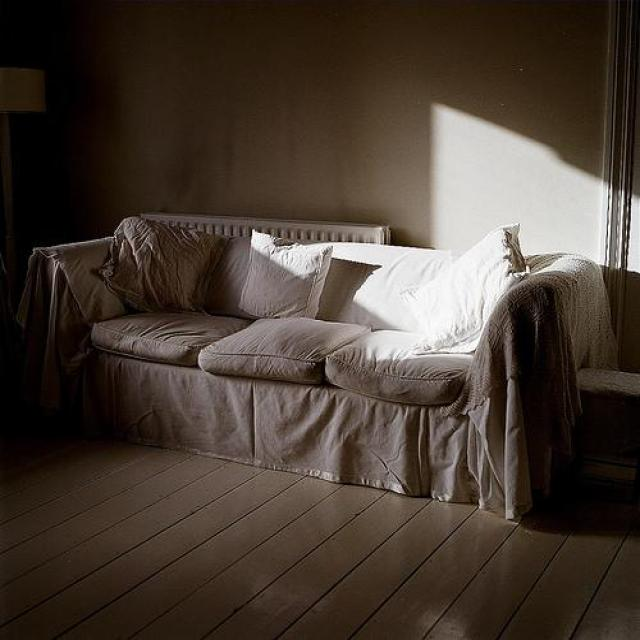sofa: (22, 216, 616, 524)
